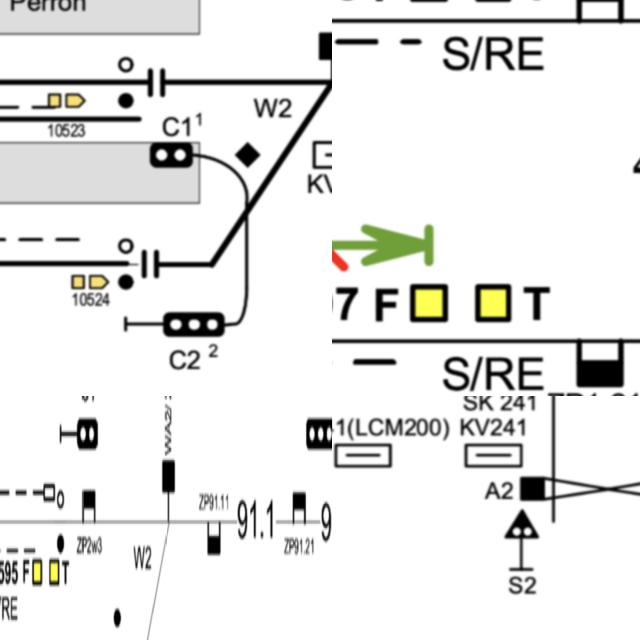mainsignal: (114, 307, 244, 337)
radzaehler: (572, 333, 628, 392), (574, 0, 628, 29), (205, 513, 223, 559), (290, 485, 308, 531), (80, 482, 96, 530)
trackjoint: (138, 244, 172, 286), (141, 68, 175, 100)
tracknumber: (234, 497, 276, 546)
weiche: (158, 454, 180, 535), (311, 28, 332, 88)
